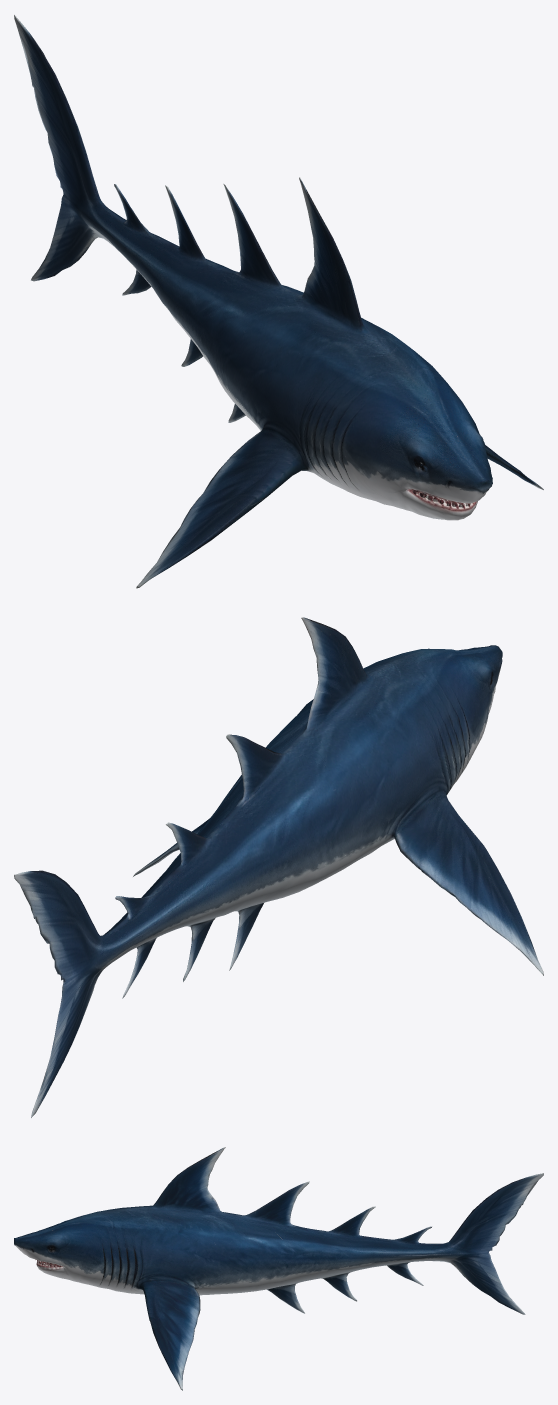
Rendered from CaMap9Vay.fbx.
3 views of the same model, one above another, from view 1: azimuth 30°, elevation 25°; view 2: azimuth 150°, elevation 25°; view 3: azimuth 270°, elevation 25° (orthographic). The views are drawn at different scales.
Visible parts, largest first — view 1: Mesh_0; view 2: Mesh_0; view 3: Mesh_0.
Part boxes in pixels (bbox=[...]): Mesh_0: bbox=[14, 15, 543, 588]; Mesh_0: bbox=[14, 617, 543, 1117]; Mesh_0: bbox=[14, 1147, 543, 1390].
Size of the model in its own units: 49.62 by 39.07 by 100.
1 material, 1 textured.
